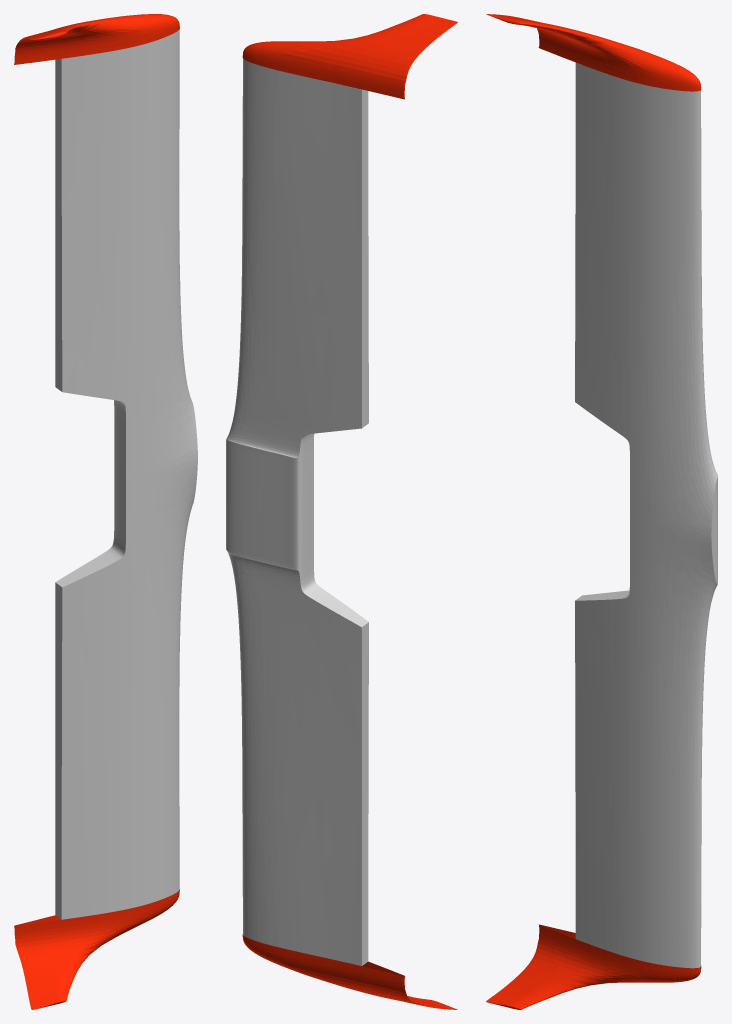
The model's file is wing.obj.
The picture shows the model from 3 angles, left to right: view 1: azimuth 30°, elevation 25°; view 2: azimuth 150°, elevation 25°; view 3: azimuth 330°, elevation 25°; orthographic projection.
Visible parts, largest first — view 1: wing_Untitled.017; view 2: wing_Untitled.017; view 3: wing_Untitled.017.
Boxes of the visible parts, <box> form: wing_Untitled.017: <box>14,14,197,1009</box>; wing_Untitled.017: <box>226,14,457,1009</box>; wing_Untitled.017: <box>486,14,717,1009</box>.
Size of the model in its own units: 0.8435 by 4.03 by 0.2915.
